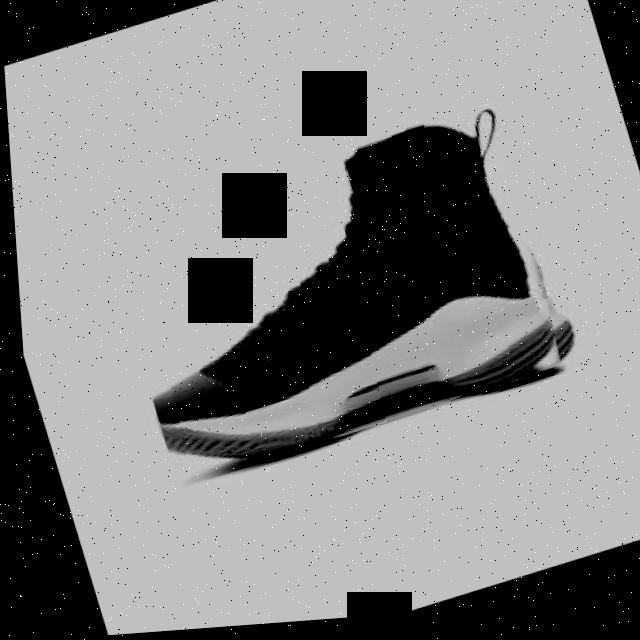shoe: (91, 104, 581, 495)
